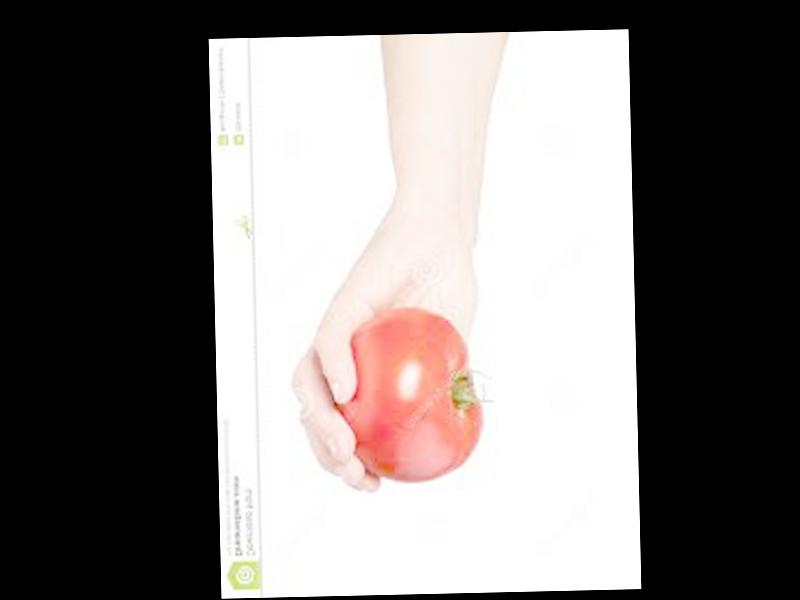Tomato: (334, 303, 486, 484)
